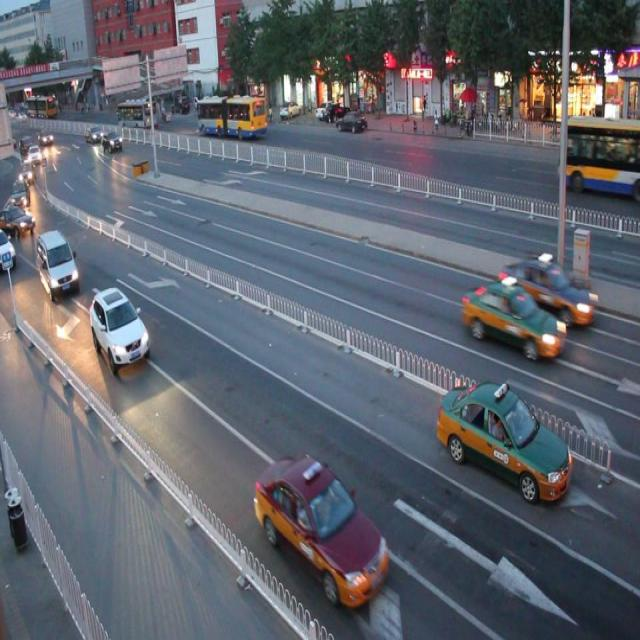car: (254, 451, 389, 607), (437, 377, 573, 502), (462, 278, 564, 361), (501, 253, 594, 327), (89, 288, 151, 370), (38, 228, 80, 302)
van: (557, 115, 640, 200), (198, 92, 268, 142)
